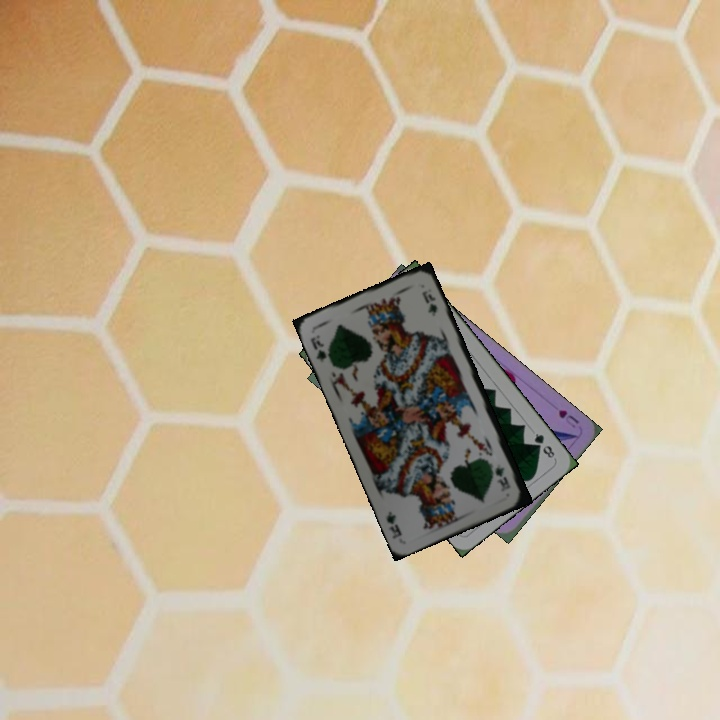G8: (530, 429, 558, 462)
GK: (306, 331, 329, 365), (491, 460, 513, 493)
HU: (554, 405, 582, 430)
